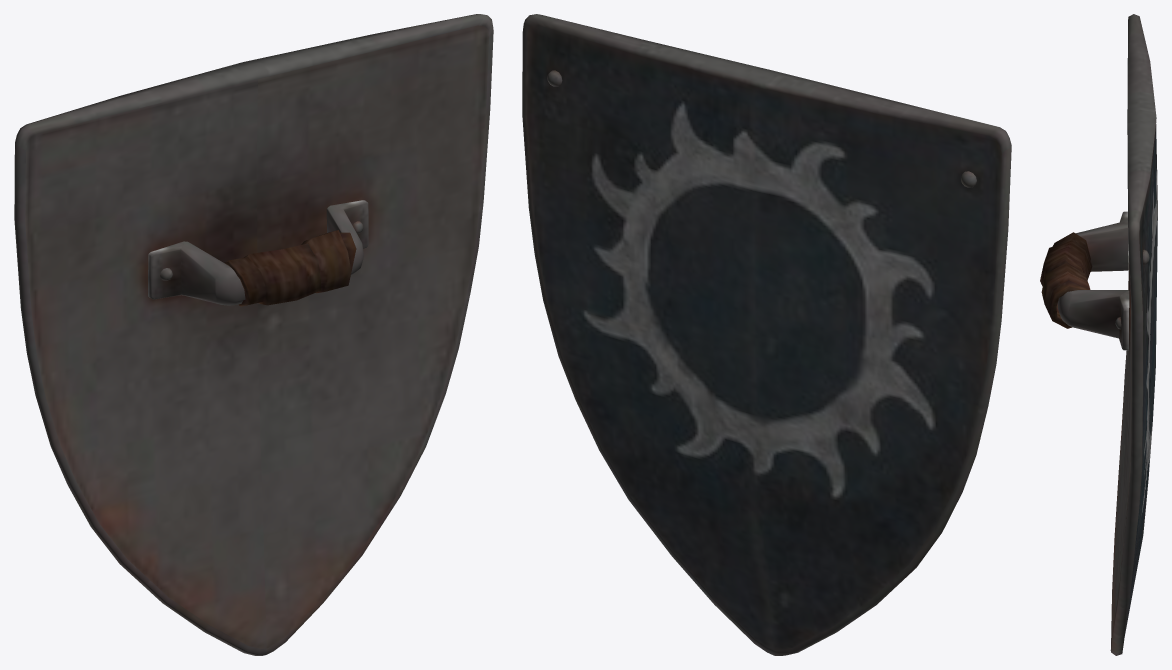
Rendered from weapon-wp_a_2036.glb.
3 renders of one model, left to right at view 1: azimuth 30°, elevation 25°; view 2: azimuth 150°, elevation 25°; view 3: azimuth 270°, elevation 25°, orthographic. The views are drawn at different scales.
Visible parts, largest first — view 1: wp_a_2036_mesh; view 2: wp_a_2036_mesh; view 3: wp_a_2036_mesh.
Boxes of the visible parts, x1,y1,x2,y2 form: wp_a_2036_mesh: [14, 14, 493, 655]; wp_a_2036_mesh: [522, 14, 1011, 655]; wp_a_2036_mesh: [1040, 14, 1157, 655].
Bounding box in the file's own units: 0.5657 × 0.6562 × 0.1305.
Materials: 1 (1 with a texture image).
